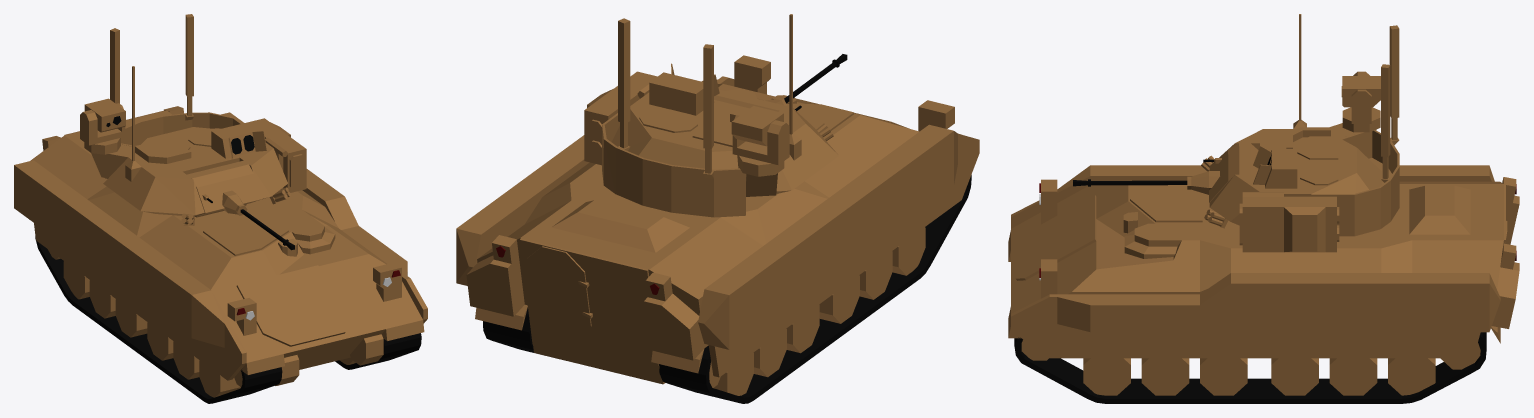
The model's file is M3 Bradley_NATO-Desert.fbx.
3 views of the same model, side by side, from view 1: azimuth 30°, elevation 25°; view 2: azimuth 150°, elevation 25°; view 3: azimuth 270°, elevation 25° (orthographic). The views are drawn at different scales.
Visible parts, largest first — view 1: Bradley_Body, Bradley_Turret, Bradle_Traks_R, Bradley_Turret_Cannon-Body, Bradley_Turret_Rocket-Launcher, Bradle_Traks_L, Bradley_Turret_Optics-Lens; view 2: Bradley_Body, Bradley_Turret, Bradle_Traks_R, Bradley_Turret_Rocket-Launcher, Bradle_Traks_L, Bradley_Turret_Cannon-Body; view 3: Bradley_Body, Bradley_Turret, Bradle_Traks_L, Bradley_Turret_Rocket-Launcher, Bradley_Turret_Cannon-Body, Bradley_Turret_Cannon.
Boxes of the visible parts, bbox=[...] form: Bradley_Body: bbox=[14, 106, 427, 397]; Bradley_Turret: bbox=[80, 14, 305, 225]; Bradle_Traks_R: bbox=[35, 236, 282, 403]; Bradley_Turret_Cannon-Body: bbox=[187, 160, 262, 216]; Bradley_Turret_Rocket-Launcher: bbox=[248, 118, 306, 192]; Bradle_Traks_L: bbox=[335, 333, 421, 369]; Bradley_Turret_Optics-Lens: bbox=[106, 116, 254, 154]; Bradley_Body: bbox=[456, 55, 979, 395]; Bradley_Turret: bbox=[602, 14, 838, 217]; Bradle_Traks_R: bbox=[659, 175, 971, 403]; Bradley_Turret_Rocket-Launcher: bbox=[584, 71, 657, 165]; Bradle_Traks_L: bbox=[483, 307, 533, 352]; Bradley_Turret_Cannon-Body: bbox=[714, 89, 795, 111]; Bradley_Body: bbox=[1008, 165, 1519, 395]; Bradley_Turret: bbox=[1201, 14, 1399, 245]; Bradle_Traks_L: bbox=[1014, 332, 1486, 403]; Bradley_Turret_Rocket-Launcher: bbox=[1242, 196, 1339, 252]; Bradley_Turret_Cannon-Body: bbox=[1187, 143, 1258, 202]; Bradley_Turret_Cannon: bbox=[1073, 179, 1187, 186].
Size of the model in its own units: 360 by 427 by 657.
